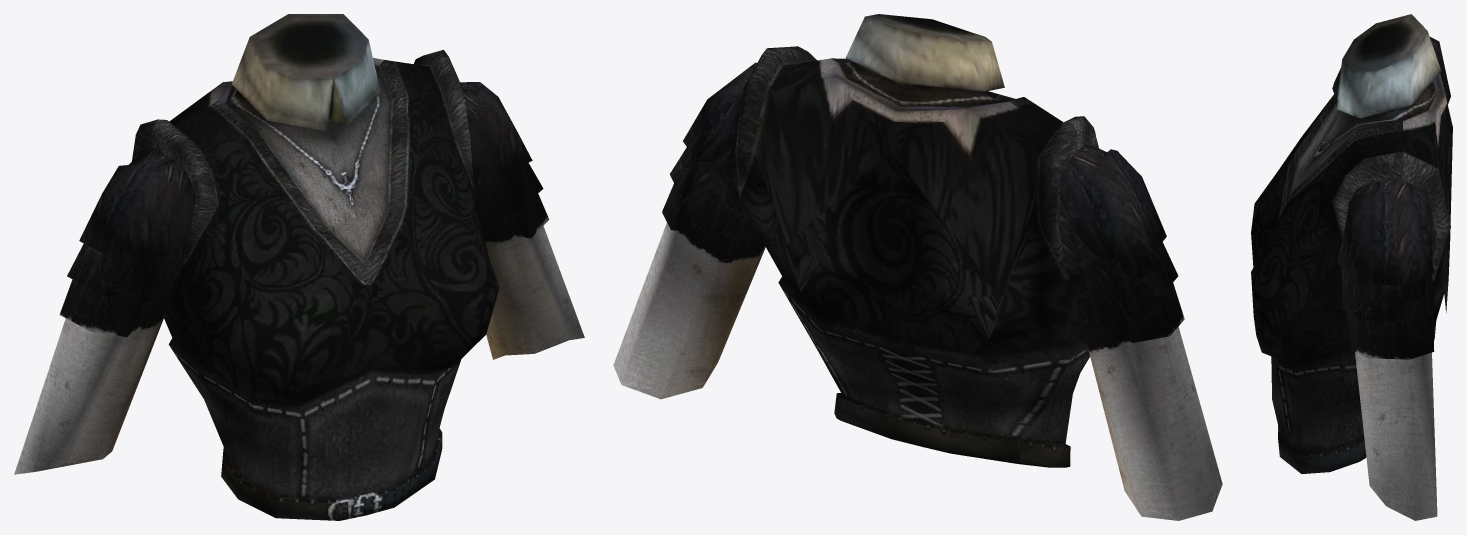
The model's file is STATIC_GS_HUM_ARMOR_IVY_REMADE.glb.
The picture shows the model from 3 angles, left to right: view 1: azimuth 30°, elevation 25°; view 2: azimuth 150°, elevation 25°; view 3: azimuth 270°, elevation 25°; orthographic projection. The views are drawn at different scales.
Visible parts, largest first — view 1: Mesh; view 2: Mesh; view 3: Mesh.
Boxes of the visible parts, x1,y1,x2,y2 form: Mesh: [14, 14, 584, 520]; Mesh: [613, 14, 1222, 520]; Mesh: [1251, 14, 1452, 520].
Bounding box in the file's own units: 0.6107 × 0.4619 × 0.2035.
1 material, 1 textured.
